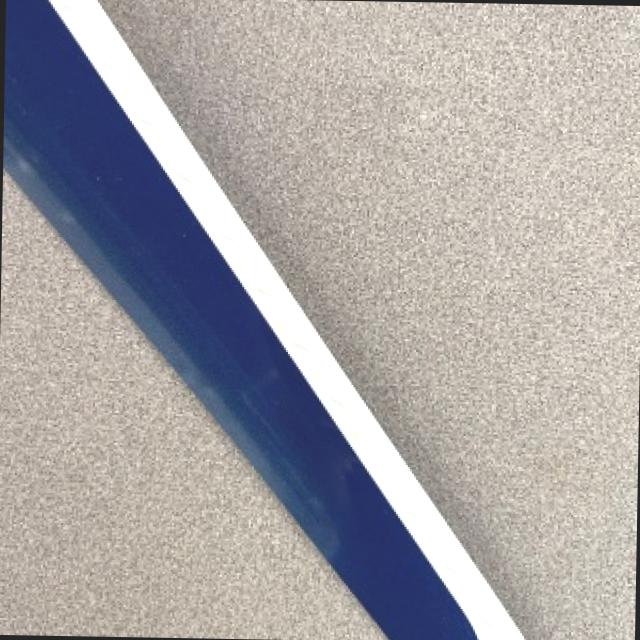healthy: (3, 0, 523, 640), (0, 174, 378, 639)
